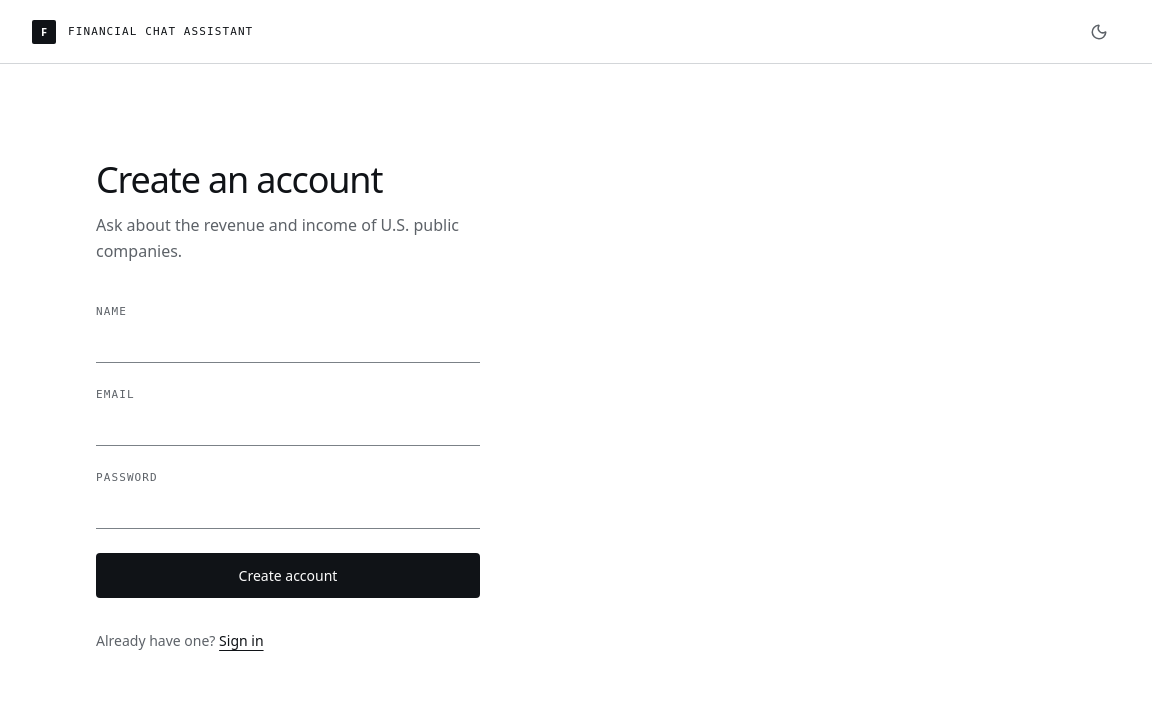
Test case: registering › turns down a name nobody filled in before spending a request
Type "ada@example.com" into the field labelled "Email" at x=288, y=428, box [96,410,480,446]
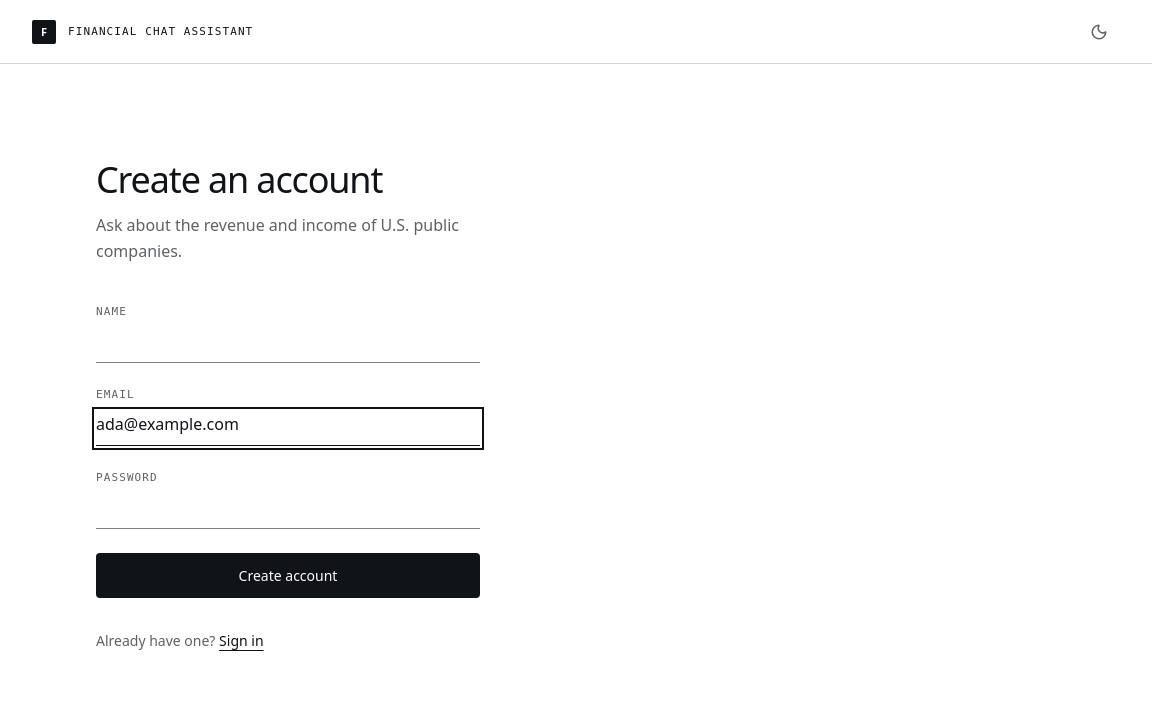
Type "correct-horse-battery" into the password field labelled "Password" at x=288, y=511, box [96,493,480,529]
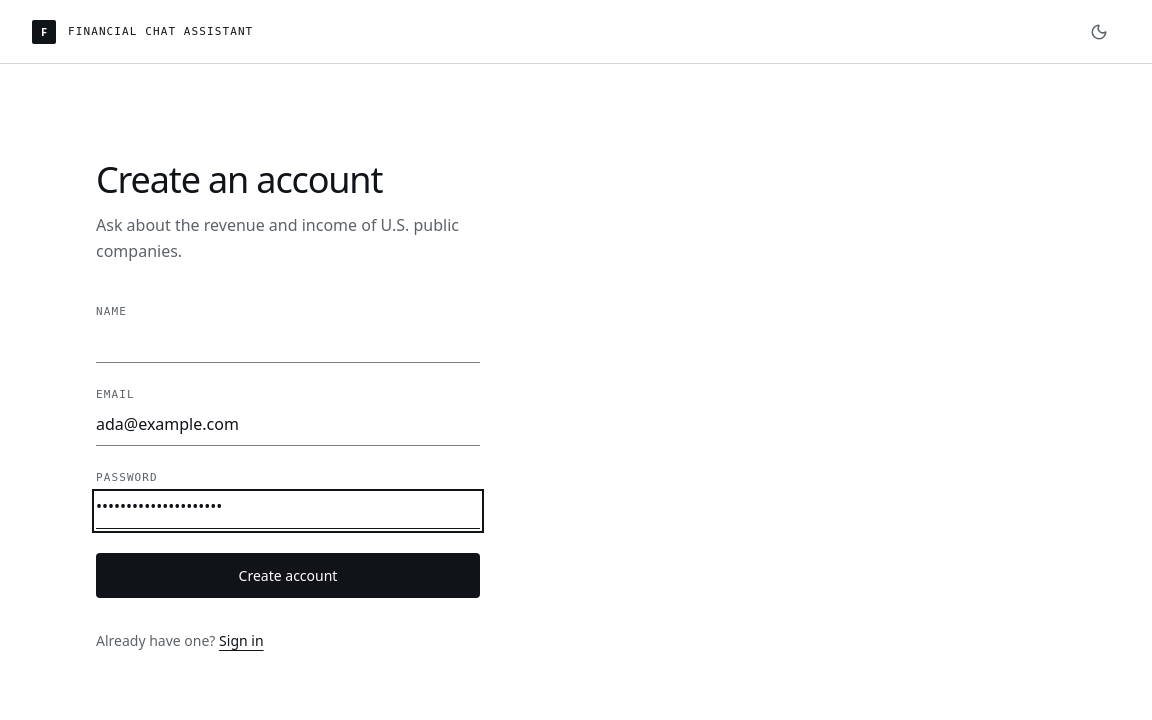
Click the button "Create account" at x=288, y=575, box [96,553,480,598]
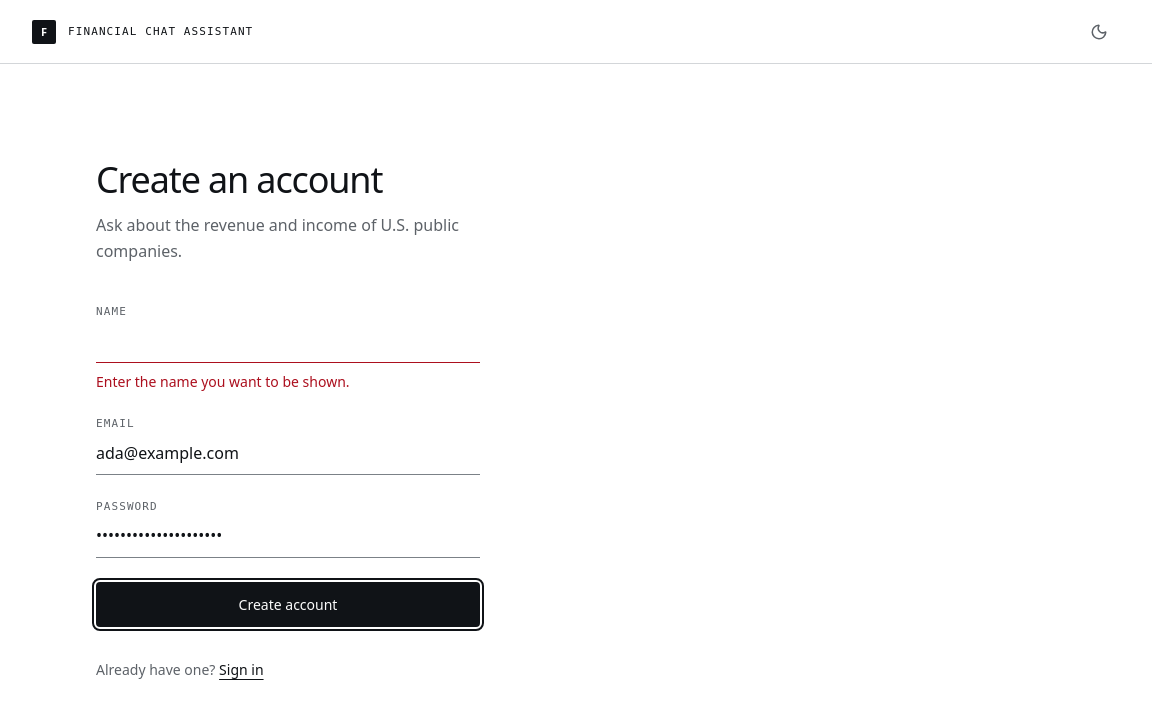
Now the text "Enter the name you want to be shown." is shown, box [96,372,350,391]
